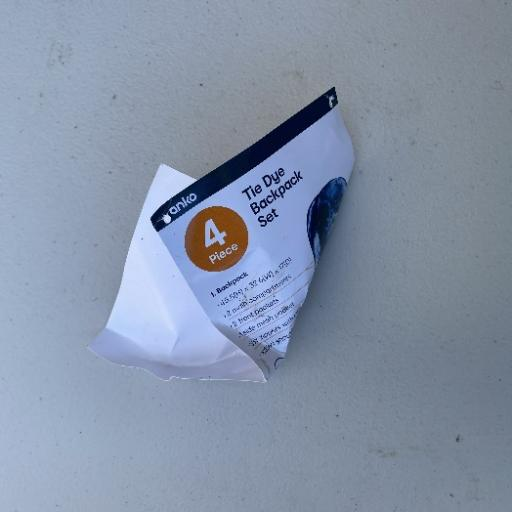Cardboard: (86, 85, 358, 385)
